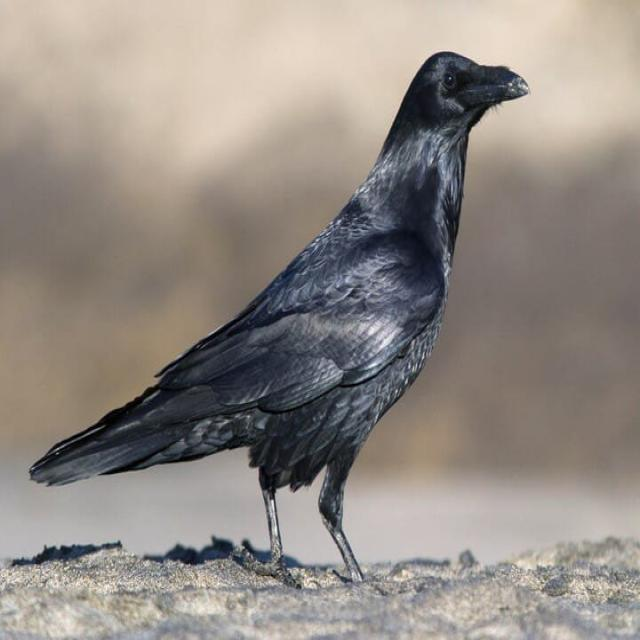crow: (358, 26, 585, 320)
